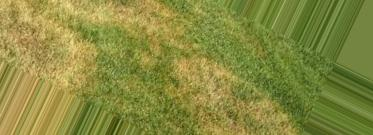patch: (33, 27, 68, 74), (188, 66, 219, 86), (75, 43, 93, 70), (8, 26, 29, 49), (196, 85, 214, 109), (115, 5, 140, 21), (258, 107, 280, 124), (81, 7, 104, 22), (134, 23, 160, 35), (207, 116, 225, 132)
